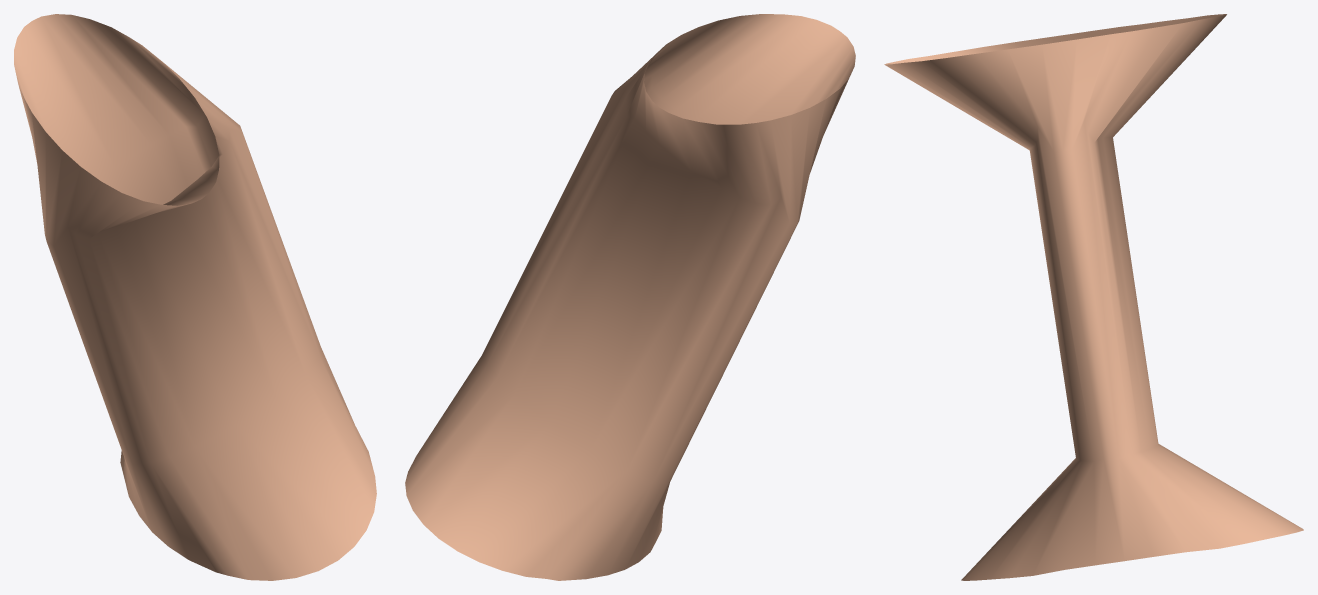
Rendered from ductustransposition.gltf.
3 renders of one model, left to right at view 1: azimuth 30°, elevation 25°; view 2: azimuth 150°, elevation 25°; view 3: azimuth 270°, elevation 25°, orthographic. The views are drawn at different scales.
Visible parts, largest first — view 1: Cylinder.010; view 2: Cylinder.010; view 3: Cylinder.010.
Part boxes in pixels (<box>): Cylinder.010: <box>14,14,376,580</box>; Cylinder.010: <box>405,14,855,580</box>; Cylinder.010: <box>884,14,1303,580</box>.
Bounding box in the file's own units: 0.2326 × 0.3575 × 0.2643.
